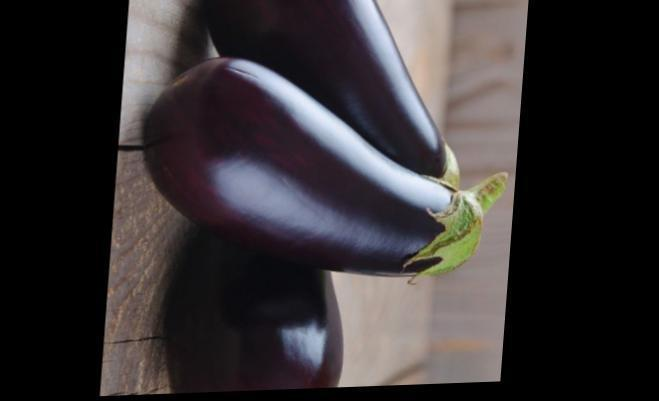eggplant: (154, 0, 519, 310), (153, 214, 360, 395)
